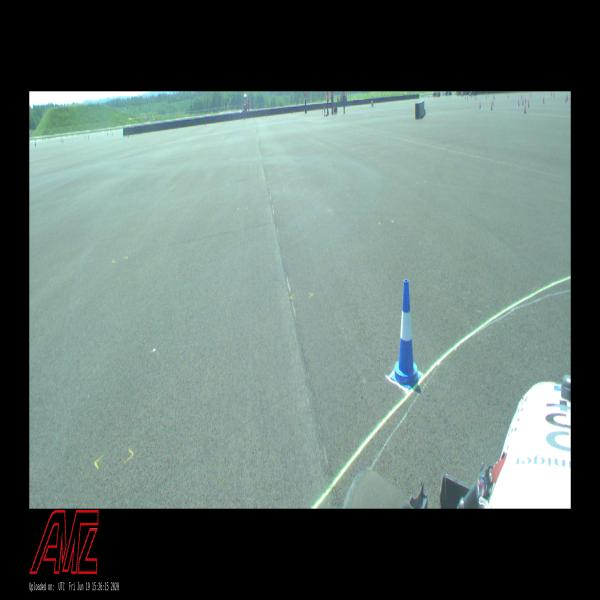blue_cone: (391, 279, 421, 389)
unknown_cone: (524, 104, 526, 114), (492, 99, 494, 106), (522, 98, 524, 105), (491, 102, 492, 110), (567, 93, 568, 101), (480, 102, 481, 109), (518, 99, 519, 106), (525, 96, 526, 103), (528, 100, 529, 107), (543, 96, 544, 103), (494, 94, 495, 100), (530, 92, 531, 98), (465, 95, 466, 100), (467, 95, 468, 100), (493, 94, 494, 99), (521, 94, 522, 99), (551, 92, 552, 97), (486, 94, 487, 98), (476, 96, 476, 100), (488, 92, 488, 98), (508, 94, 508, 99), (554, 91, 554, 97), (566, 96, 566, 102), (471, 94, 471, 98)
